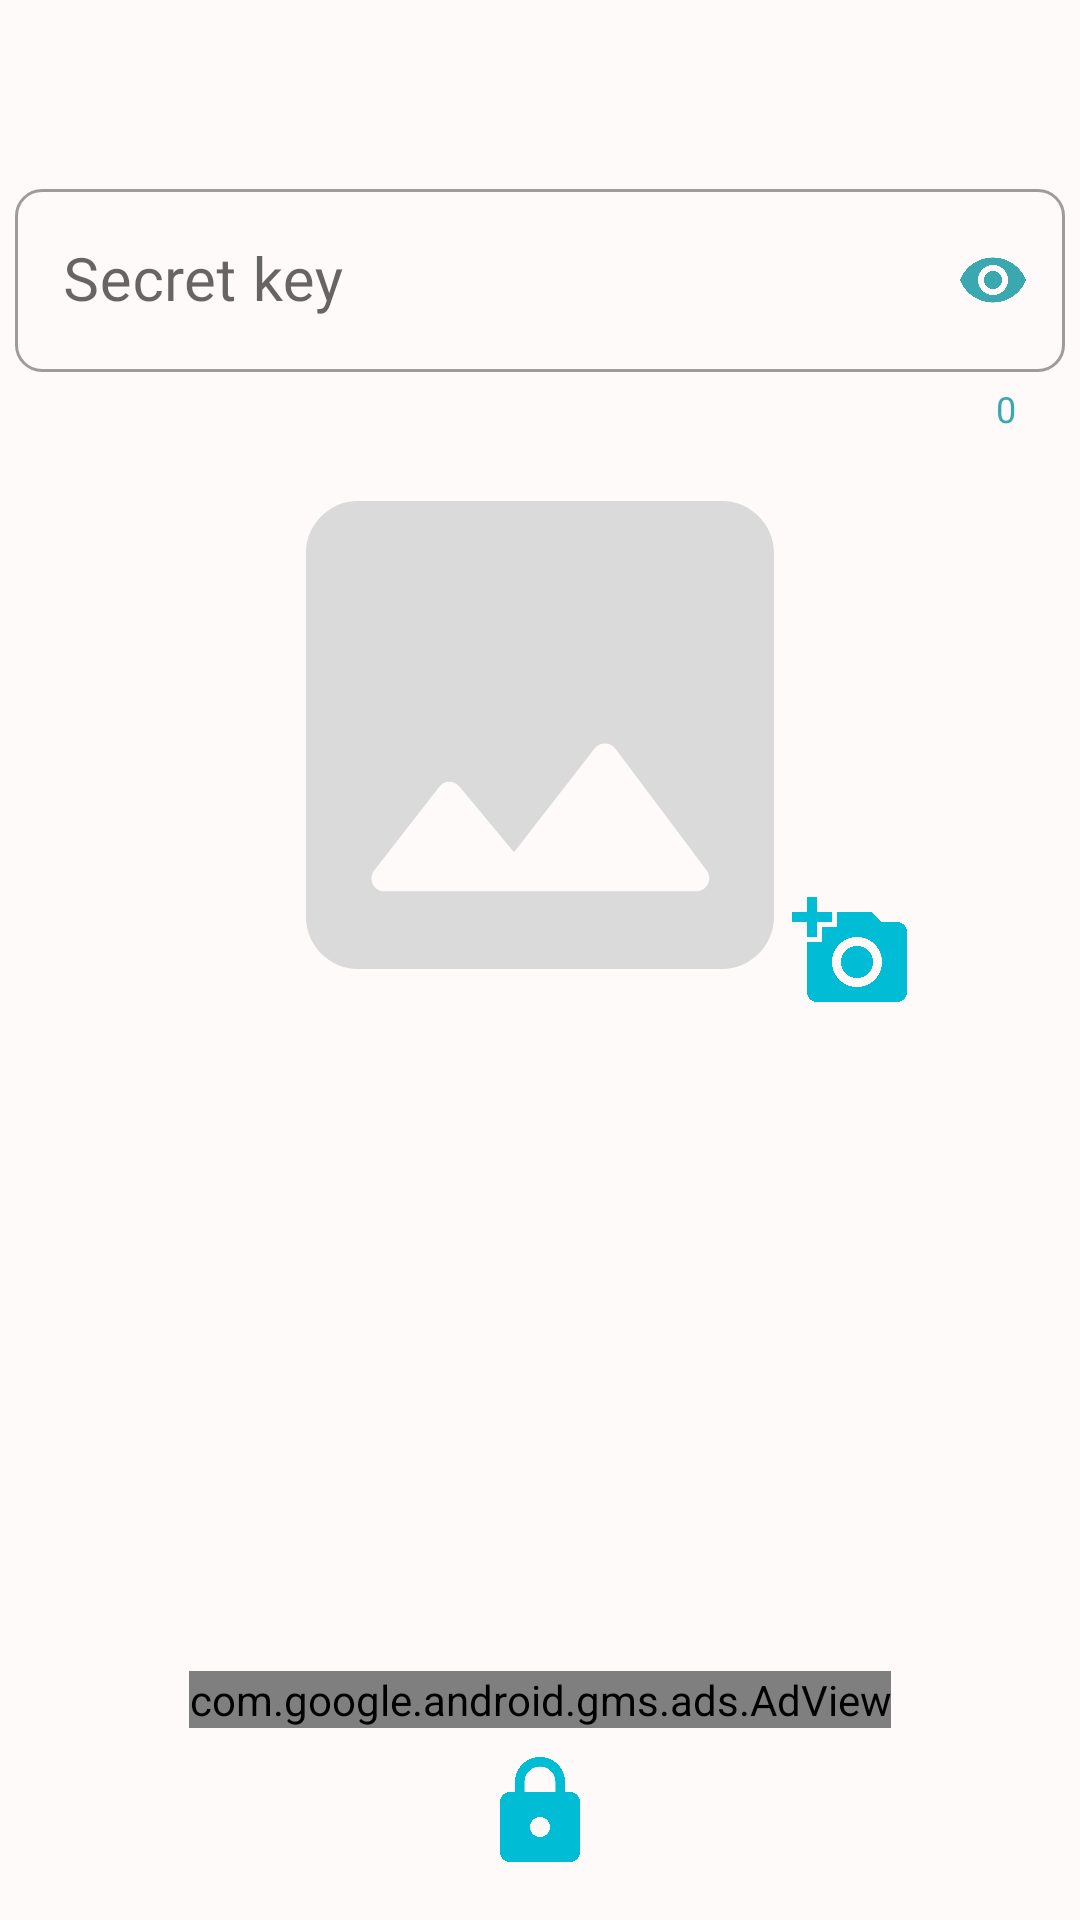

Icons on this 1080×1920 Android screen, each with its box as bbox=[x1, y1, x2, y2]:
add photo: bbox=[792, 897, 907, 1002]
lock: bbox=[500, 1757, 580, 1862]
